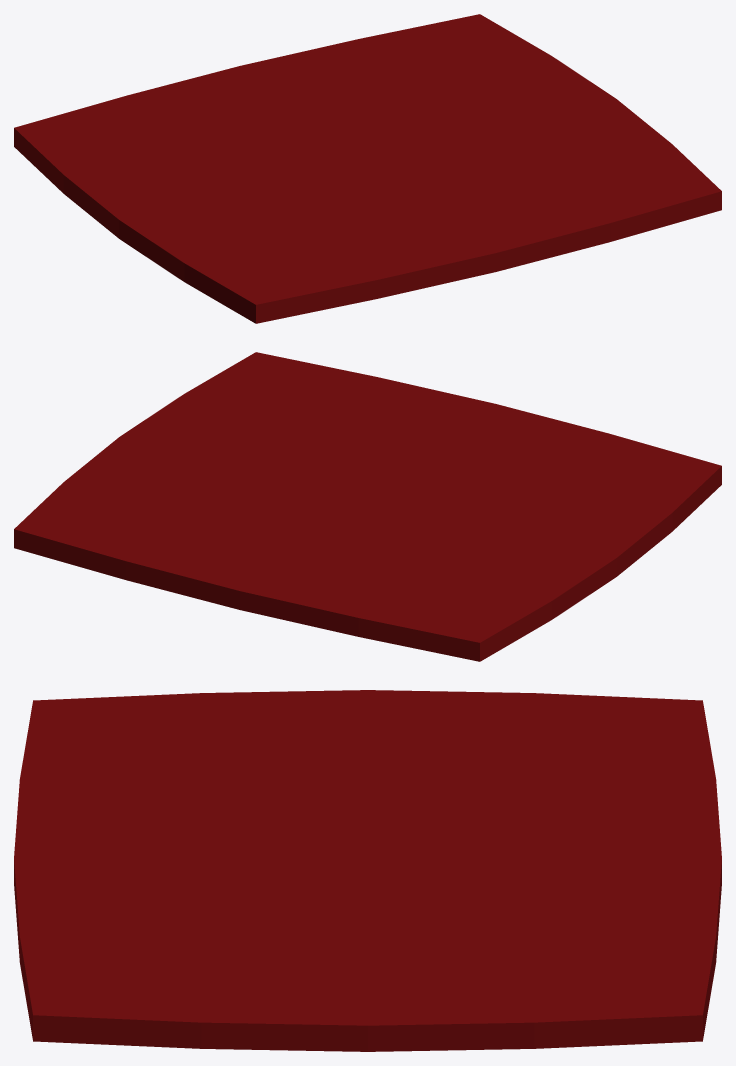
Rendered from Mouse_Pad.fbx.
The picture shows the model from 3 angles, top to bottom: view 1: azimuth 30°, elevation 25°; view 2: azimuth 150°, elevation 25°; view 3: azimuth 270°, elevation 25°; orthographic projection. The views are drawn at different scales.
Visible parts, largest first — view 1: Cube.035; view 2: Cube.035; view 3: Cube.035.
Boxes of the visible parts, x1,y1,x2,y2 form: Cube.035: (14,14,721,323); Cube.035: (14,352,721,661); Cube.035: (14,690,721,1051).
Bounding box in the file's own units: 124 × 4.54 × 111.
